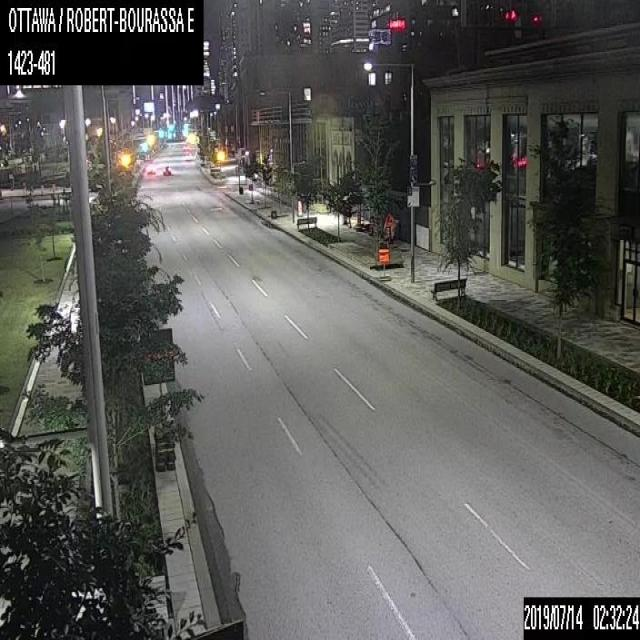construction: (139, 327, 175, 472), (384, 212, 392, 239), (377, 247, 389, 261), (354, 211, 362, 229), (368, 214, 375, 234), (295, 197, 302, 216)
vehicle: (146, 165, 156, 175), (163, 165, 171, 175)
